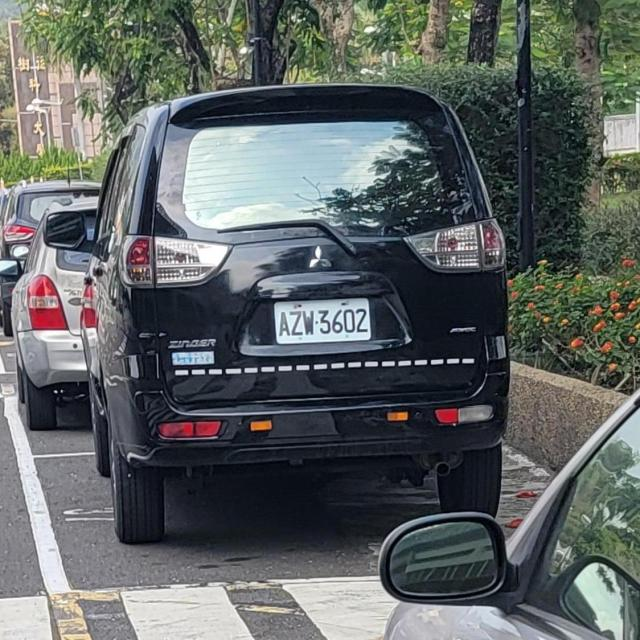W: (267, 290, 375, 348)
